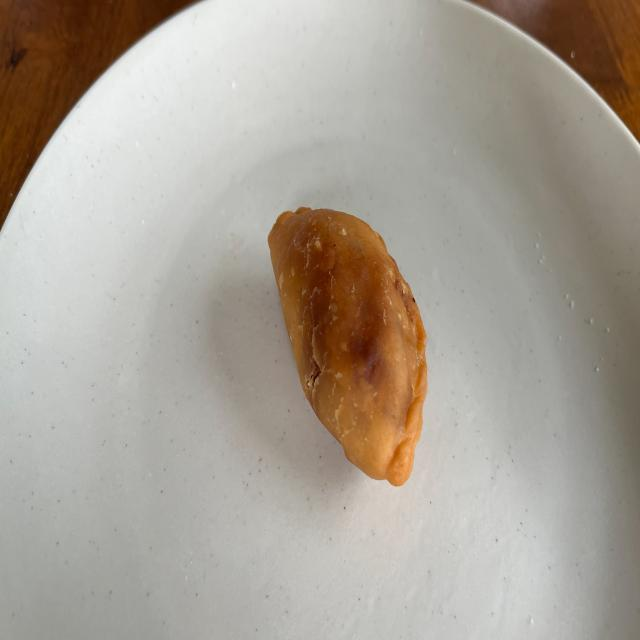karipap: (268, 207, 428, 487)
